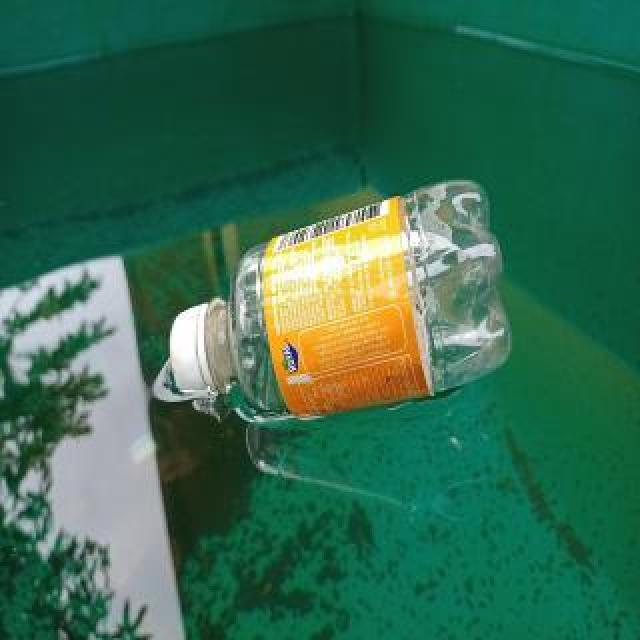bottle: (166, 173, 516, 423)
